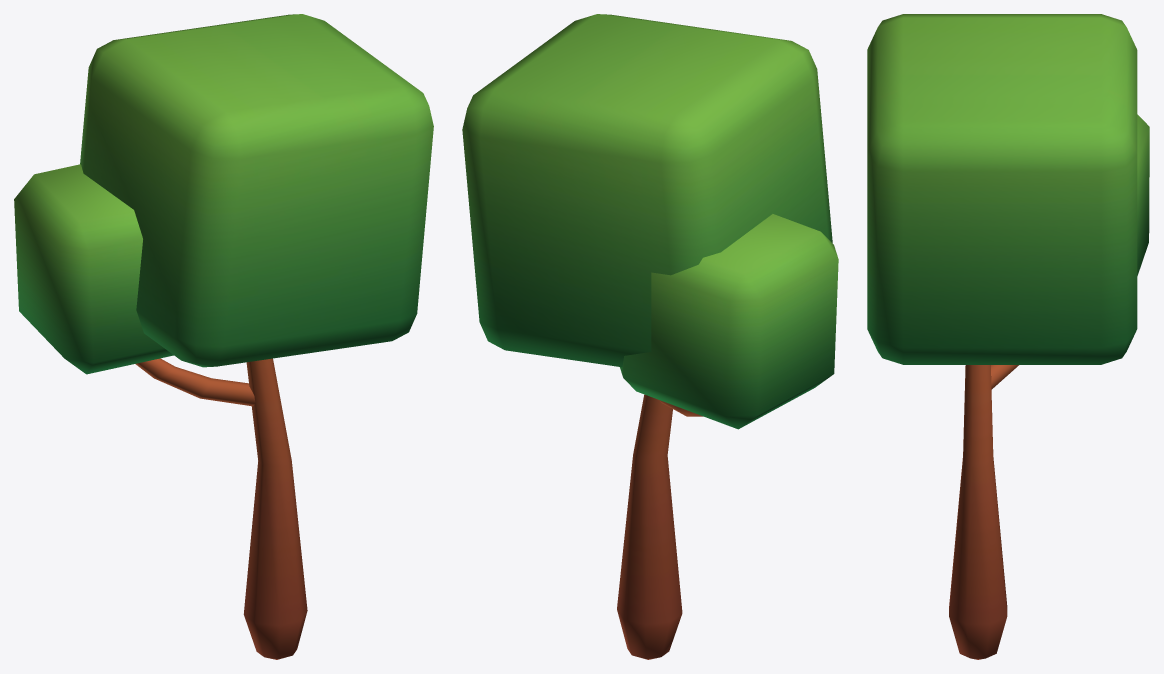
Rendered from Tree_2_A_Color1.gltf.
3 views of the same model, side by side, from view 1: azimuth 30°, elevation 25°; view 2: azimuth 150°, elevation 25°; view 3: azimuth 270°, elevation 25° (orthographic). The views are drawn at different scales.
Visible parts, largest first — view 1: Tree_2_A_Color1; view 2: Tree_2_A_Color1; view 3: Tree_2_A_Color1.
Part boxes in pixels (<box>): Tree_2_A_Color1: <box>14,14,433,659</box>; Tree_2_A_Color1: <box>462,14,838,659</box>; Tree_2_A_Color1: <box>867,14,1149,659</box>.
Bounding box in the file's own units: 2.6 × 4.67 × 2.
Materials: 1 (1 with a texture image).
